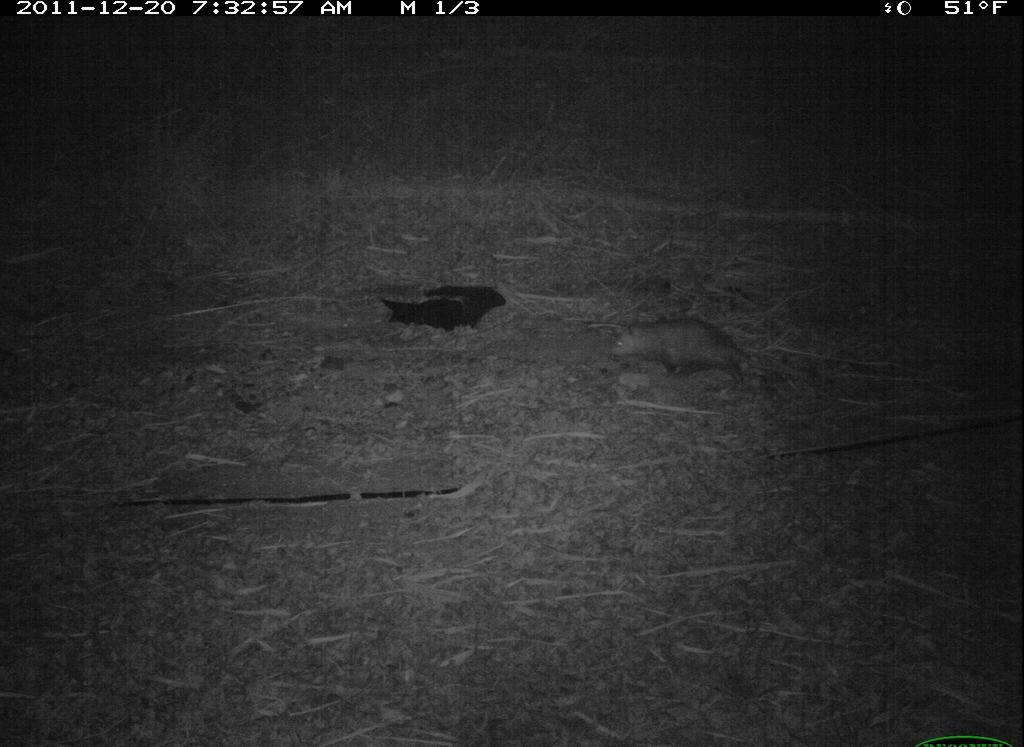opossum: (582, 295, 820, 406)
